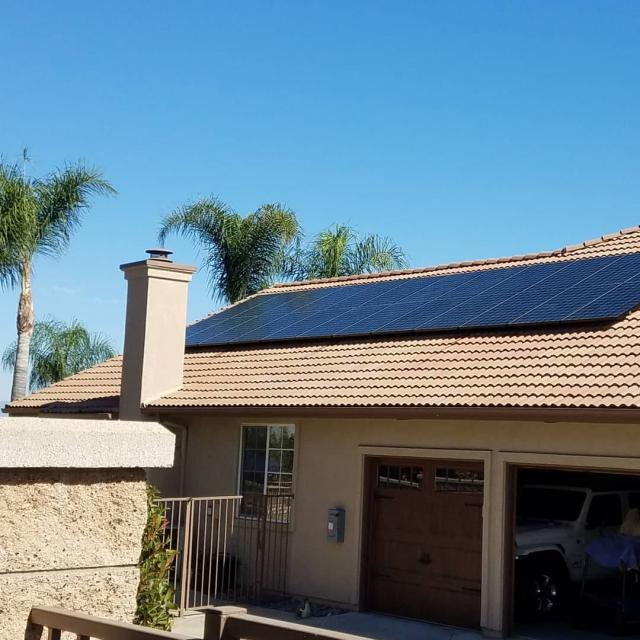clean-solar-panel: (187, 253, 640, 346)
